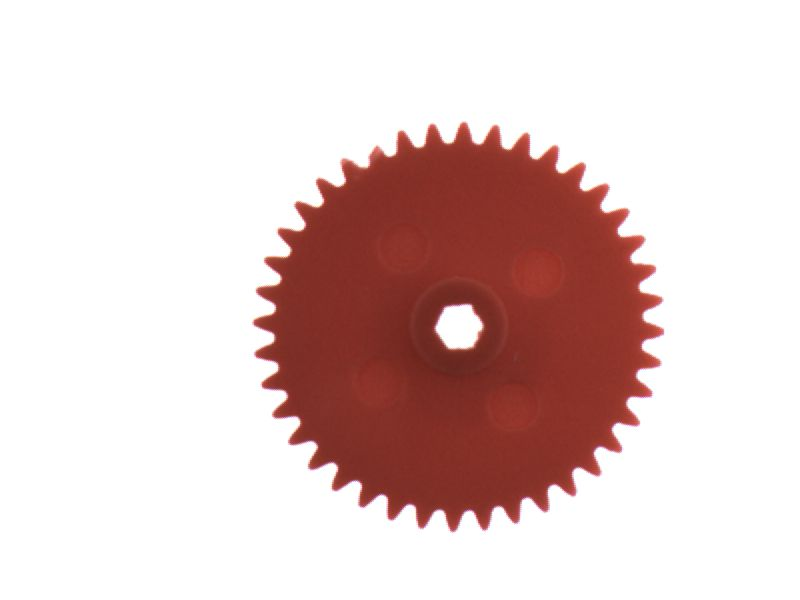defect_break: (358, 131, 393, 181)
